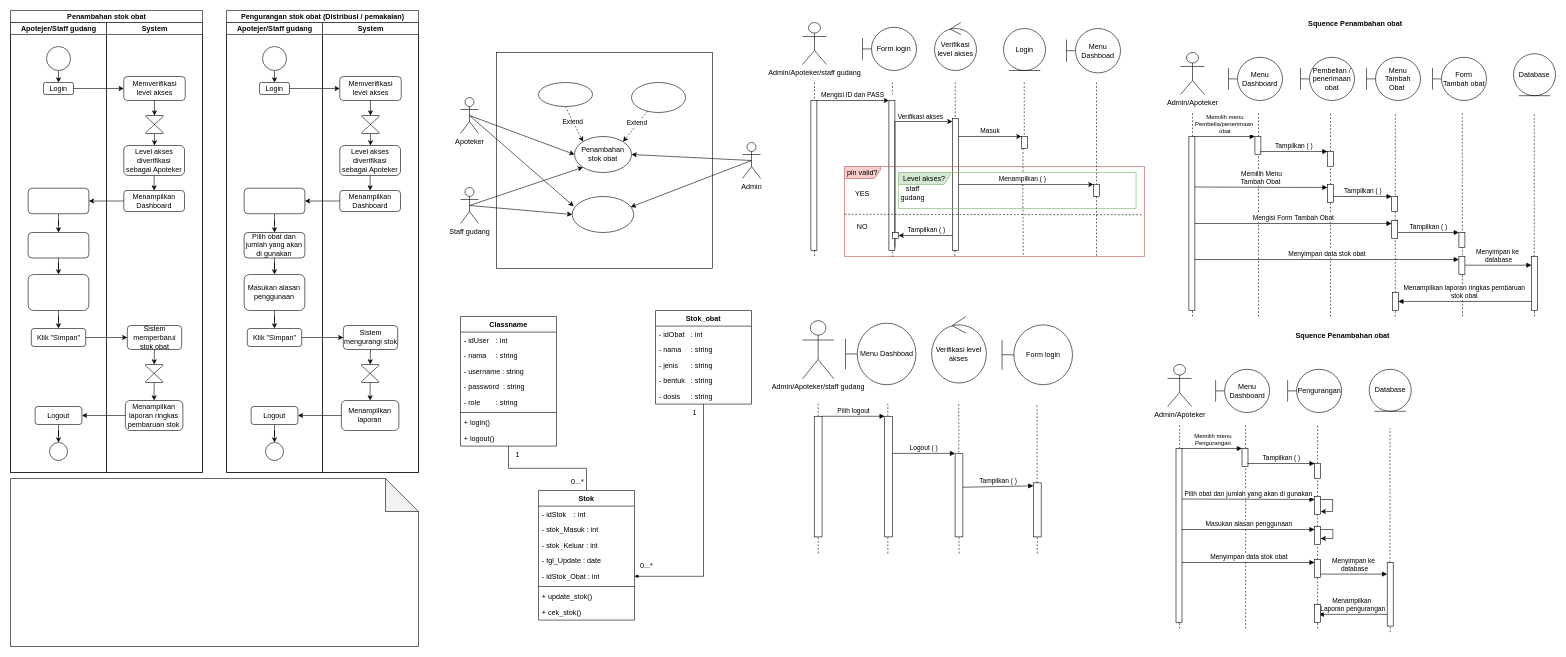
The diagram is 1566 pixels wide and 657 high, and some of its shapes have lost their labels. Here are the shapes that lost their labels. From the top down, the centre of each, then its label:
the point at 565,94: Pembelian
the point at 658,97: Penerimaan obat
the point at 58,201: Akses menu "Pembelian / Penerimaan obat"
the point at 274,201: Akses menu "Pengurangan"
the point at 603,214: Pengeluaran / Pengurangan stok obat
the point at 58,245: Pilih obat yang ajan di tambahkan
the point at 58,292: Masukan jumlah stock, tanggal pemberlian, dan pemasok
